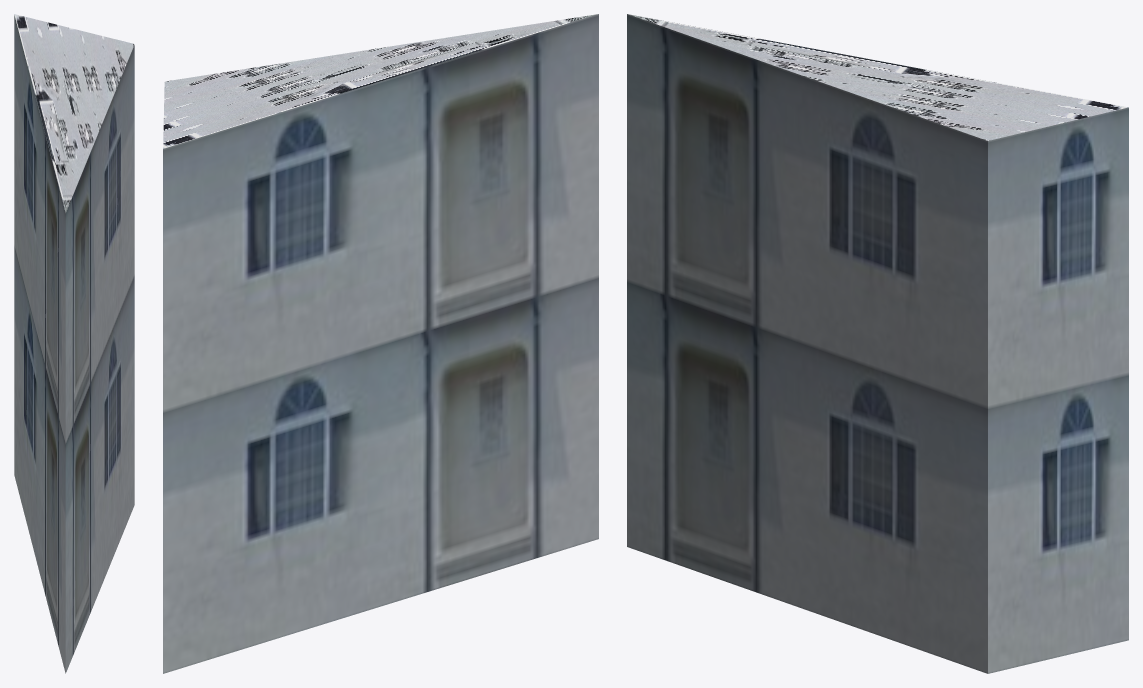
Rendered from ResTex__2065.fbx.
3 views of the same model, side by side, from view 1: azimuth 30°, elevation 25°; view 2: azimuth 150°, elevation 25°; view 3: azimuth 270°, elevation 25° (orthographic). The views are drawn at different scales.
Parts seen in each view (by area): view 1: CityEngineMaterial_17_m, CityEngineMaterial_4_m; view 2: CityEngineMaterial_17_m, CityEngineMaterial_4_m; view 3: CityEngineMaterial_17_m, CityEngineMaterial_4_m.
Part boxes in pixels (x1=…): CityEngineMaterial_17_m: x1=14, y1=15, x2=134, y2=673; CityEngineMaterial_4_m: x1=14, y1=14, x2=134, y2=212; CityEngineMaterial_17_m: x1=163, y1=14, x2=598, y2=673; CityEngineMaterial_4_m: x1=163, y1=14, x2=597, y2=148; CityEngineMaterial_17_m: x1=627, y1=14, x2=1128, y2=673; CityEngineMaterial_4_m: x1=629, y1=14, x2=1128, y2=140.
Size of the model in its own units: 3.07 by 6 by 5.12.
Materials: 2 (2 with a texture image).
